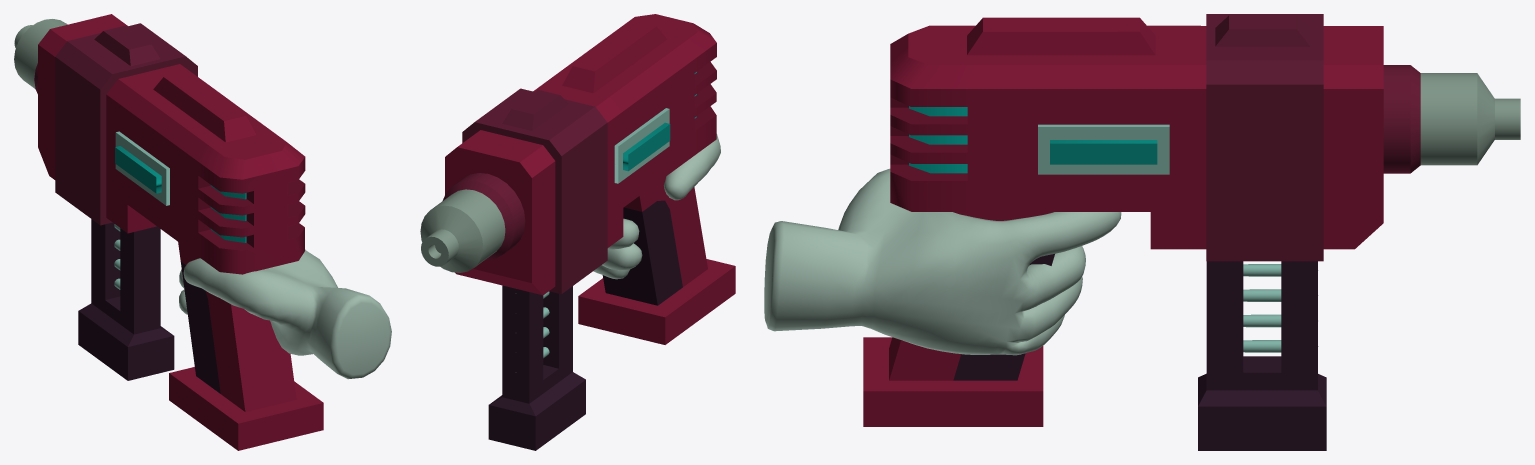
File: handGun2.fbx
The picture shows the model from 3 angles, left to right: view 1: azimuth 30°, elevation 25°; view 2: azimuth 150°, elevation 25°; view 3: azimuth 270°, elevation 25°; orthographic projection. The views are drawn at different scales.
Visible parts, largest first — view 1: handgun2, hand; view 2: handgun2, hand; view 3: handgun2, hand.
Part boxes in pixels (box(x1,y1,x2,y2)): handgun2: box(14, 14, 323, 450); hand: box(179, 249, 391, 379); handgun2: box(420, 14, 735, 450); hand: box(593, 134, 720, 279); handgun2: box(863, 14, 1520, 450); hand: box(764, 168, 1121, 355).
Bounding box in the file's own units: 78.85 × 187 × 309.
